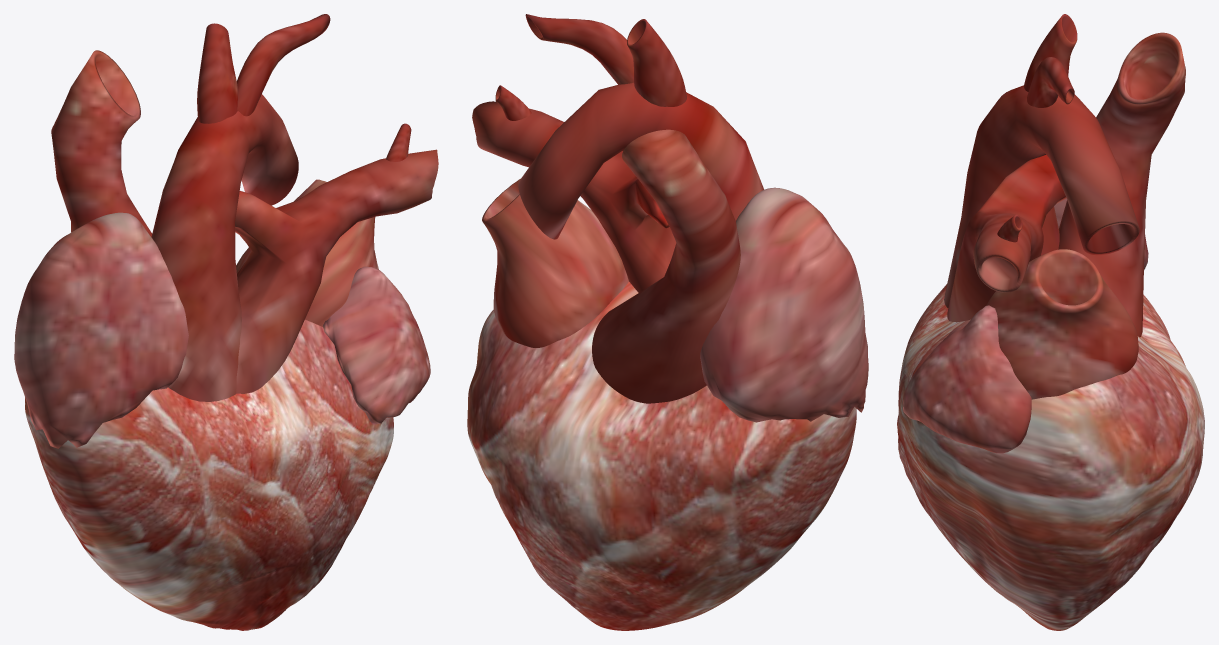
3 renders of one model, left to right at view 1: azimuth 30°, elevation 25°; view 2: azimuth 150°, elevation 25°; view 3: azimuth 270°, elevation 25°, orthographic. The views are drawn at different scales.
Visible parts, largest first — view 1: Hearth; view 2: Hearth; view 3: Hearth.
Boxes of the visible parts, x1,y1,x2,y2 form: Hearth: [14, 14, 438, 630]; Hearth: [467, 14, 868, 630]; Hearth: [897, 14, 1204, 630].
Bounding box in the file's own units: 680 × 1003 × 470.
Materials: 1 (1 with a texture image).
